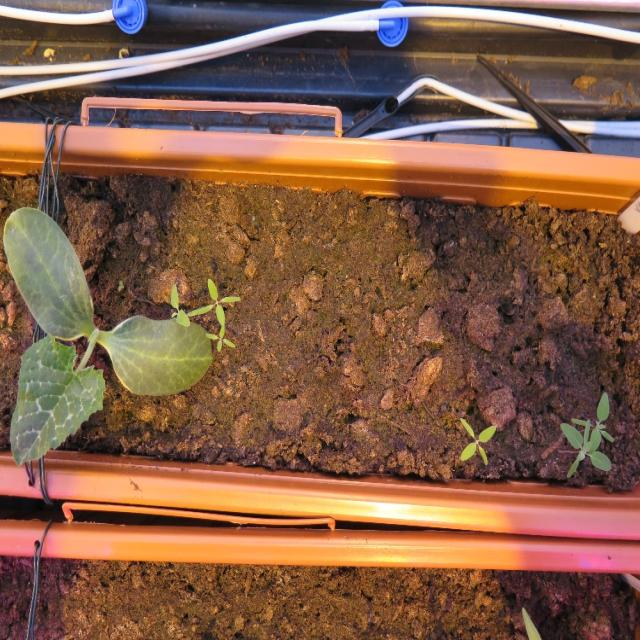weed: (458, 415, 496, 465)
